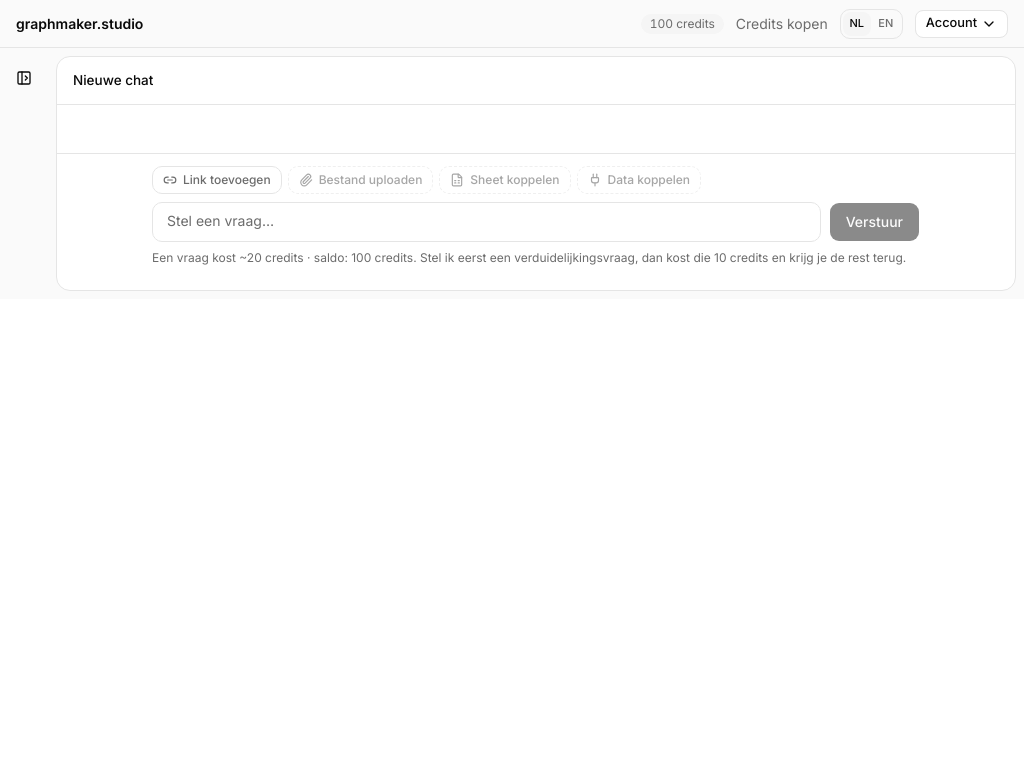
Test: Workspace — mobile sidebar overlay (row 1, #P1) › below md, expanding the sidebar renders an overlay drawer (not a flex sibling) with a backdrop
#213: auto-collapses on mount below md — open it via the rail toggle.
Click the button named "Toon gesprekken" at (24, 78), box x1=10 y1=64 x2=38 y2=92
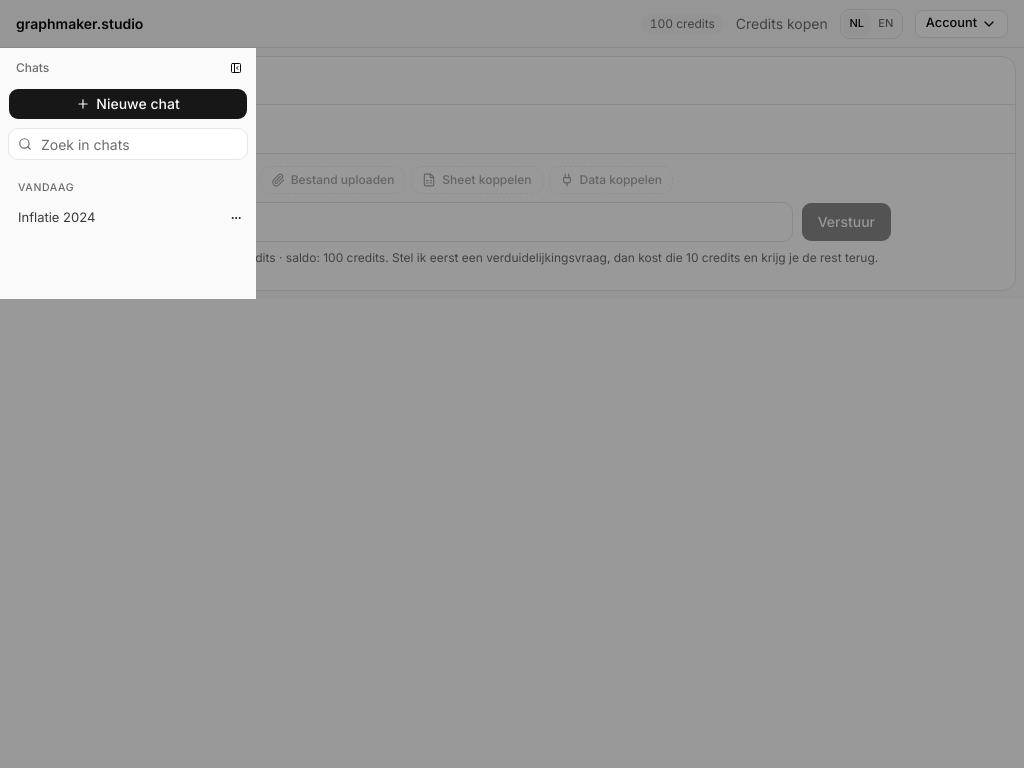
Now the element with test id "sidebar-backdrop" is shown
